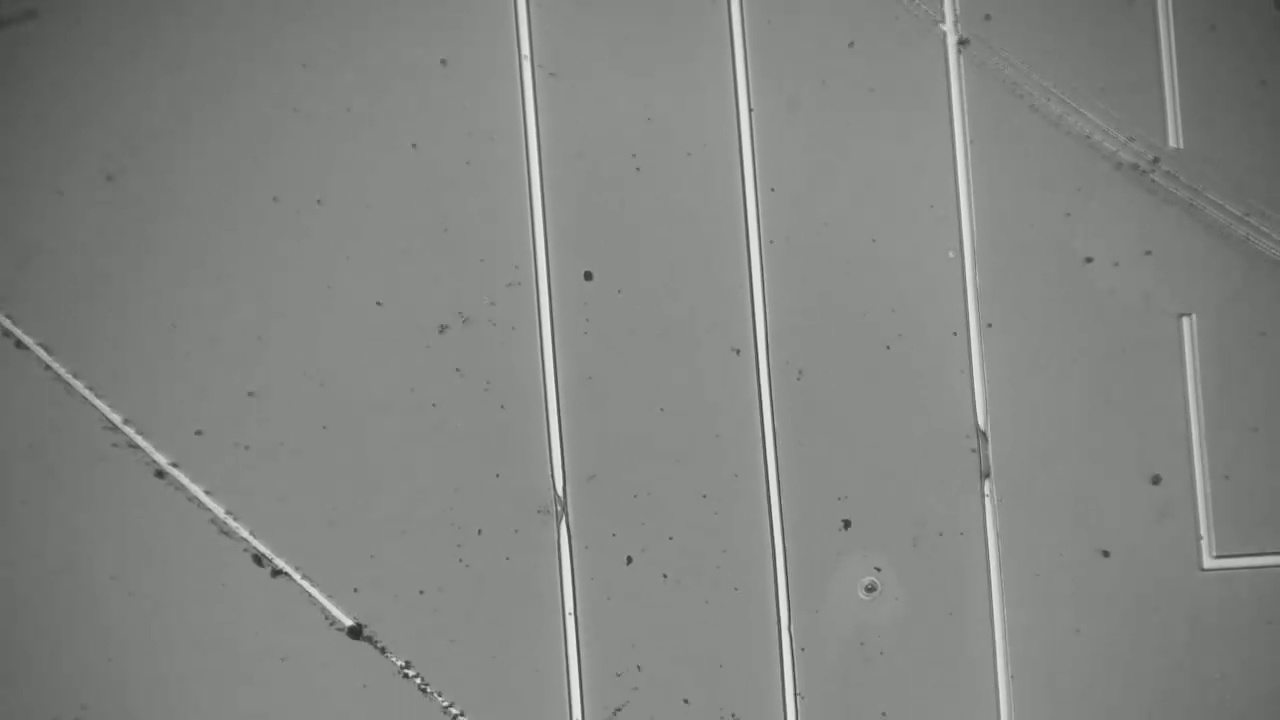gray_line: (960, 409, 1019, 500), (546, 469, 585, 541)
open: (1134, 95, 1236, 367)
scratch: (1, 298, 475, 713), (895, 5, 1280, 293)
